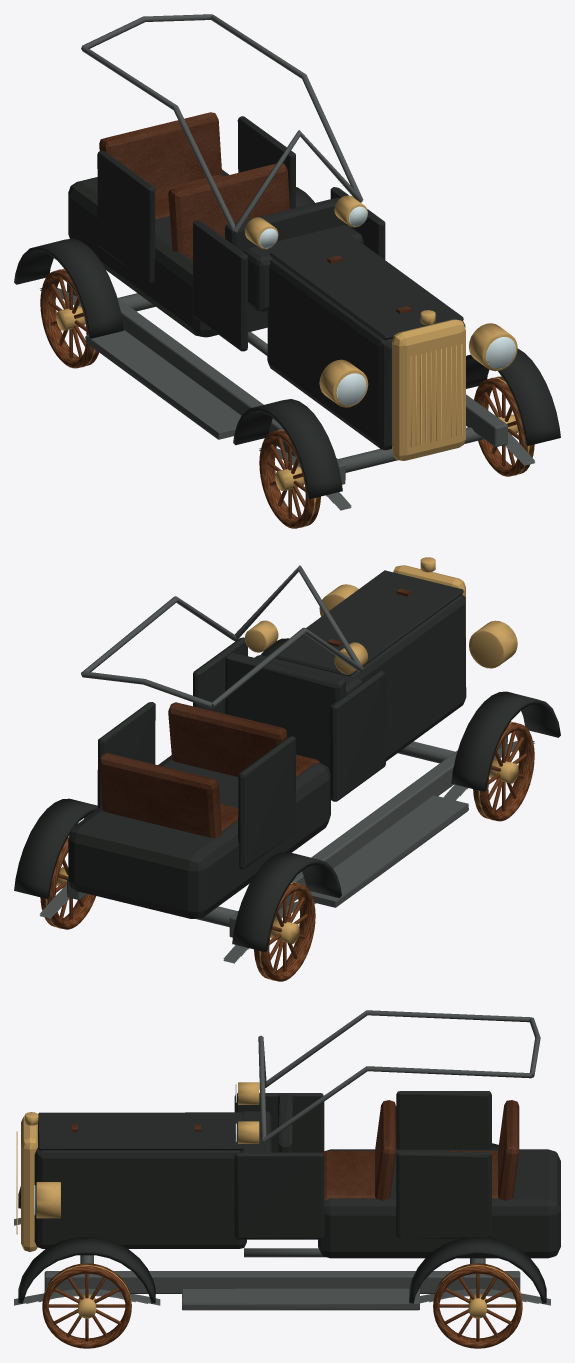
Rendered from Ford_ModelT_1912_LOD1.fbx.
The picture shows the model from 3 angles, top to bottom: view 1: azimuth 30°, elevation 25°; view 2: azimuth 150°, elevation 25°; view 3: azimuth 270°, elevation 25°; orthographic projection. The views are drawn at different scales.
Parts seen in each view (by area): view 1: Ford_ModelT_1912_Body_Root_OPT_Merged_FORD_Paint_Black_OPT_D, Ford_ModelT_1912_Body_Root_OPT_Merged_RB_Brass_Aged_OPT_DATA, Ford_ModelT_1912_Body_Root_OPT_Merged_RB_Leather_Saddle_OPT_, Ford_ModelT_1912_Body_Root_OPT_Merged_RB_Steel_Blackened_OPT, Ford_ModelT_1912_Chassis_Root_OPT_Merged_RB_Steel_Blackened_, Ford_ModelT_1912_Wheel_FL_Spin_OPT_Merged_RB_Wood_Walnut_OPT, Ford_ModelT_1912_Wheel_RL_Spin_OPT_Merged_RB_Wood_Walnut_OPT, Ford_ModelT_1912_Wheel_FR_Spin_OPT_Merged_RB_Wood_Walnut_OPT, Ford_ModelT_1912_Body_Root_OPT_Merged_RB_Acetylene_Glass_OPT; view 2: Ford_ModelT_1912_Body_Root_OPT_Merged_FORD_Paint_Black_OPT_D, Ford_ModelT_1912_Body_Root_OPT_Merged_RB_Leather_Saddle_OPT_, Ford_ModelT_1912_Body_Root_OPT_Merged_RB_Steel_Blackened_OPT, Ford_ModelT_1912_Chassis_Root_OPT_Merged_RB_Steel_Blackened_, Ford_ModelT_1912_Body_Root_OPT_Merged_RB_Brass_Aged_OPT_DATA, Ford_ModelT_1912_Wheel_FL_Spin_OPT_Merged_RB_Wood_Walnut_OPT, Ford_ModelT_1912_Wheel_RL_Spin_OPT_Merged_RB_Wood_Walnut_OPT, Ford_ModelT_1912_Wheel_RR_Spin_OPT_Merged_RB_Wood_Walnut_OPT, Ford_ModelT_1912_Wheel_FL_Spin_OPT_Merged_RB_Brass_Aged_OPT_, Ford_ModelT_1912_Wheel_RL_Spin_OPT_Merged_RB_Brass_Aged_OPT_; view 3: Ford_ModelT_1912_Body_Root_OPT_Merged_FORD_Paint_Black_OPT_D, Ford_ModelT_1912_Chassis_Root_OPT_Merged_RB_Steel_Blackened_, Ford_ModelT_1912_Body_Root_OPT_Merged_RB_Steel_Blackened_OPT, Ford_ModelT_1912_Body_Root_OPT_Merged_RB_Leather_Saddle_OPT_, Ford_ModelT_1912_Body_Root_OPT_Merged_RB_Brass_Aged_OPT_DATA, Ford_ModelT_1912_Wheel_RR_Spin_OPT_Merged_RB_Wood_Walnut_OPT, Ford_ModelT_1912_Wheel_FR_Spin_OPT_Merged_RB_Wood_Walnut_OPT, Ford_ModelT_1912_Wheel_RR_Spin_OPT_Merged_RB_Brass_Aged_OPT_, Ford_ModelT_1912_Wheel_FR_Spin_OPT_Merged_RB_Brass_Aged_OPT_.
Boxes of the visible parts, x1=… form: Ford_ModelT_1912_Body_Root_OPT_Merged_FORD_Paint_Black_OPT_D: x1=14, y1=116, x2=560, y2=498; Ford_ModelT_1912_Body_Root_OPT_Merged_RB_Brass_Aged_OPT_DATA: x1=245, y1=195, x2=517, y2=460; Ford_ModelT_1912_Body_Root_OPT_Merged_RB_Leather_Saddle_OPT_: x1=99, y1=112, x2=411, y2=313; Ford_ModelT_1912_Body_Root_OPT_Merged_RB_Steel_Blackened_OPT: x1=81, y1=14, x2=363, y2=439; Ford_ModelT_1912_Chassis_Root_OPT_Merged_RB_Steel_Blackened_: x1=40, y1=283, x2=534, y2=510; Ford_ModelT_1912_Wheel_FL_Spin_OPT_Merged_RB_Wood_Walnut_OPT: x1=259, y1=429, x2=320, y2=528; Ford_ModelT_1912_Wheel_RL_Spin_OPT_Merged_RB_Wood_Walnut_OPT: x1=40, y1=269, x2=98, y2=368; Ford_ModelT_1912_Wheel_FR_Spin_OPT_Merged_RB_Wood_Walnut_OPT: x1=474, y1=376, x2=534, y2=476; Ford_ModelT_1912_Body_Root_OPT_Merged_RB_Acetylene_Glass_OPT: x1=259, y1=206, x2=515, y2=405; Ford_ModelT_1912_Body_Root_OPT_Merged_FORD_Paint_Black_OPT_D: x1=14, y1=570, x2=560, y2=951; Ford_ModelT_1912_Body_Root_OPT_Merged_RB_Leather_Saddle_OPT_: x1=99, y1=588, x2=411, y2=837; Ford_ModelT_1912_Body_Root_OPT_Merged_RB_Steel_Blackened_OPT: x1=81, y1=565, x2=468, y2=907; Ford_ModelT_1912_Chassis_Root_OPT_Merged_RB_Steel_Blackened_: x1=40, y1=735, x2=534, y2=963; Ford_ModelT_1912_Body_Root_OPT_Merged_RB_Brass_Aged_OPT_DATA: x1=244, y1=557, x2=517, y2=674; Ford_ModelT_1912_Wheel_FL_Spin_OPT_Merged_RB_Wood_Walnut_OPT: x1=473, y1=721, x2=534, y2=821; Ford_ModelT_1912_Wheel_RL_Spin_OPT_Merged_RB_Wood_Walnut_OPT: x1=254, y1=882, x2=315, y2=981; Ford_ModelT_1912_Wheel_RR_Spin_OPT_Merged_RB_Wood_Walnut_OPT: x1=40, y1=837, x2=95, y2=929; Ford_ModelT_1912_Wheel_FL_Spin_OPT_Merged_RB_Brass_Aged_OPT_: x1=478, y1=722, x2=518, y2=820; Ford_ModelT_1912_Wheel_RL_Spin_OPT_Merged_RB_Brass_Aged_OPT_: x1=259, y1=882, x2=299, y2=980; Ford_ModelT_1912_Body_Root_OPT_Merged_FORD_Paint_Black_OPT_D: x1=18, y1=1091, x2=560, y2=1303; Ford_ModelT_1912_Chassis_Root_OPT_Merged_RB_Steel_Blackened_: x1=14, y1=1218, x2=550, y2=1305; Ford_ModelT_1912_Body_Root_OPT_Merged_RB_Steel_Blackened_OPT: x1=182, y1=1010, x2=540, y2=1310; Ford_ModelT_1912_Body_Root_OPT_Merged_RB_Leather_Saddle_OPT_: x1=71, y1=1100, x2=519, y2=1200; Ford_ModelT_1912_Body_Root_OPT_Merged_RB_Brass_Aged_OPT_DATA: x1=16, y1=1082, x2=259, y2=1251; Ford_ModelT_1912_Wheel_RR_Spin_OPT_Merged_RB_Wood_Walnut_OPT: x1=433, y1=1263, x2=522, y2=1348; Ford_ModelT_1912_Wheel_FR_Spin_OPT_Merged_RB_Wood_Walnut_OPT: x1=42, y1=1263, x2=131, y2=1348; Ford_ModelT_1912_Wheel_RR_Spin_OPT_Merged_RB_Brass_Aged_OPT_: x1=433, y1=1265, x2=522, y2=1318; Ford_ModelT_1912_Wheel_FR_Spin_OPT_Merged_RB_Brass_Aged_OPT_: x1=42, y1=1265, x2=131, y2=1318.
Size of what is drawn, in the model's own units: 168 by 190 by 356.
6 materials, 2 textured.
